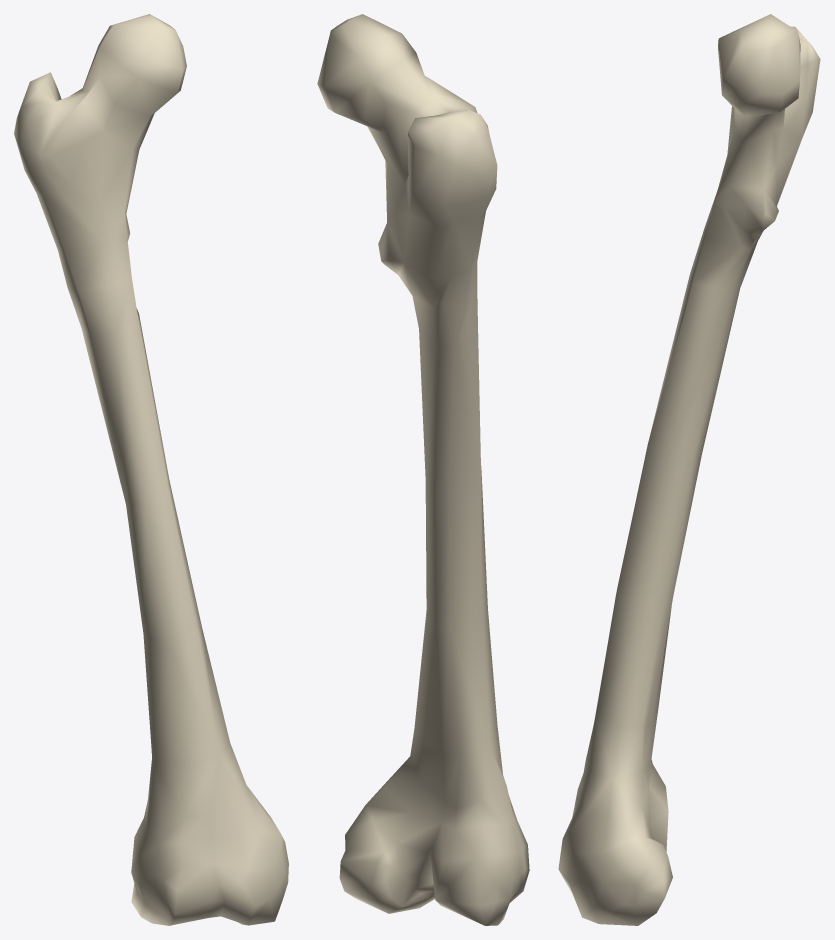
The model's file is rightthigh.obj.
3 views of the same model, side by side, from view 1: azimuth 30°, elevation 25°; view 2: azimuth 150°, elevation 25°; view 3: azimuth 270°, elevation 25° (orthographic). The views are drawn at different scales.
Parts seen in each view (by area): view 1: RightThigh; view 2: RightThigh; view 3: RightThigh.
Part boxes in pixels (left/top/right/bottom): RightThigh: left=14, top=14, right=288, bottom=925; RightThigh: left=317, top=14, right=529, bottom=925; RightThigh: left=558, top=14, right=820, bottom=925.
Bounding box in the file's own units: 4.66 × 19.39 × 5.24.
